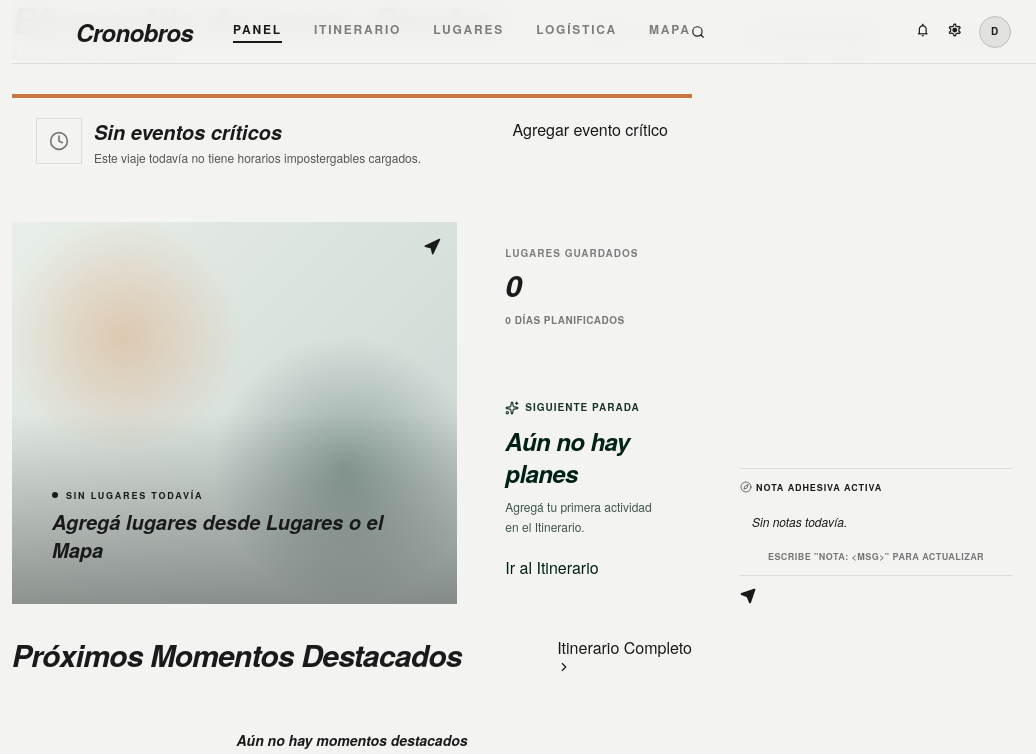
new trip experience › does not leak destination-specific prototype content into empty trip views
The width and height of the screenshot is (1036, 754).
Click the icon with id "header-notifications-btn".
click(923, 31)  # box [915,20,931,42]
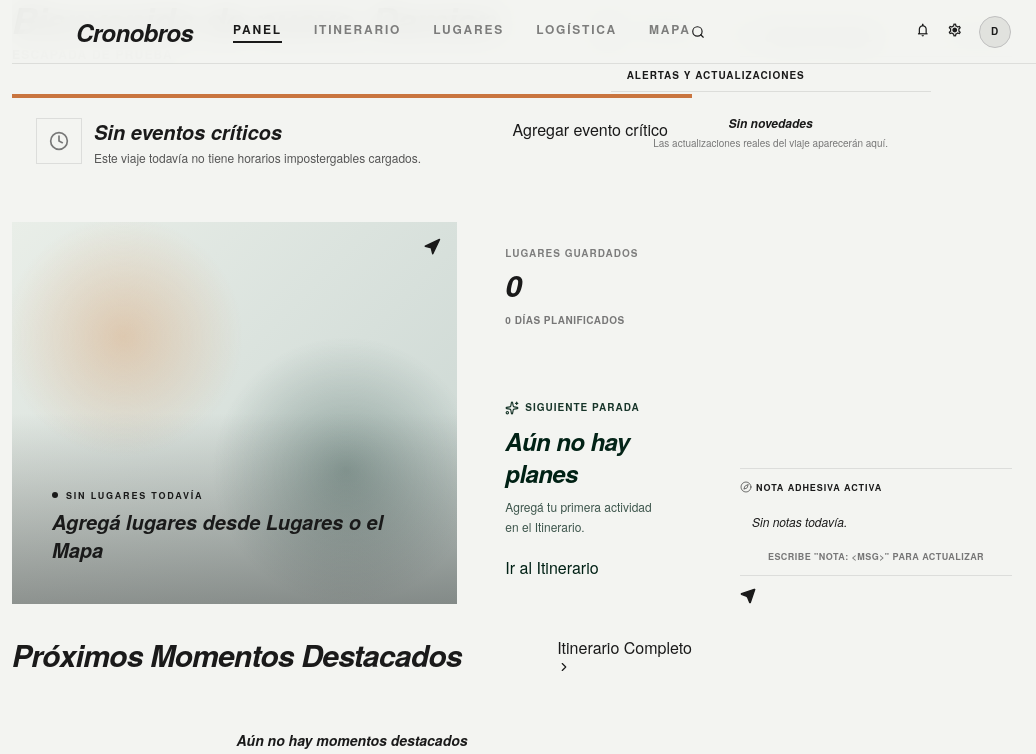
expect the text "Sin novedades" is shown: met, box [728,114,813,132]
